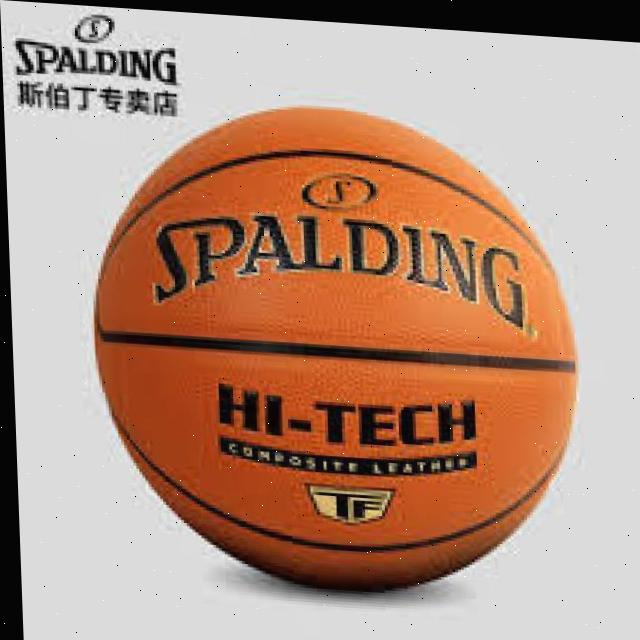Basketball: (81, 94, 592, 613)
